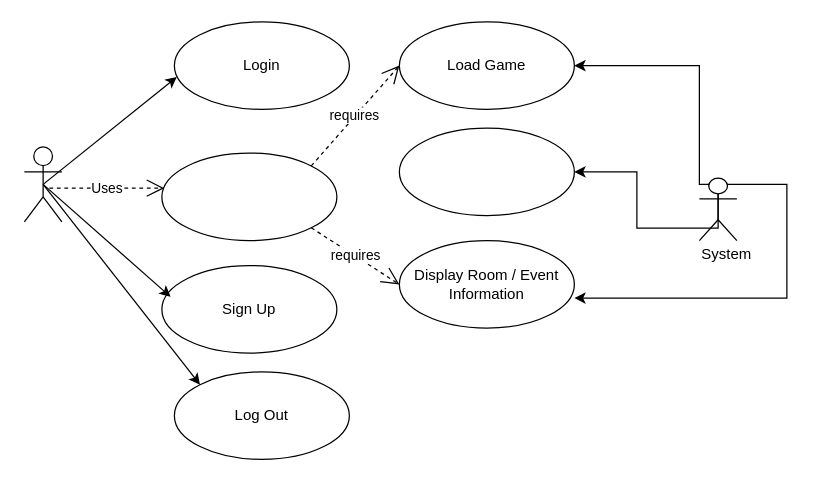
Image size: 819x481. Some labels were removed from this diagram. The shapes that lost their labels are listed below. From the top down, each one's centre as x and y in pixels, then its label:
At point (42, 184): "Player".
At point (486, 171): "Manage Game".
At point (249, 196): "Play Game".
